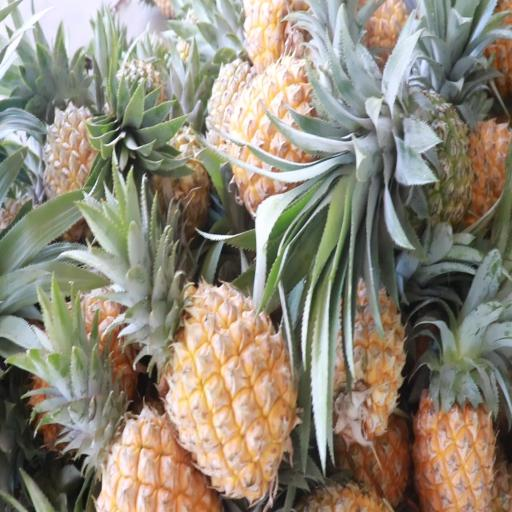Pineapple - v8 v1: (154, 278, 306, 493), (244, 53, 385, 212), (422, 295, 512, 512)
